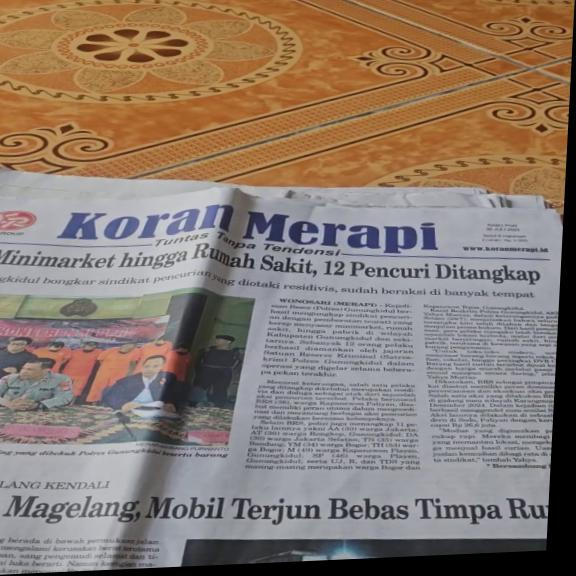Kertas: (0, 205, 564, 576)
